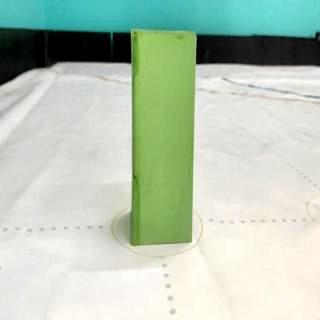greenbox: (130, 27, 198, 243)
